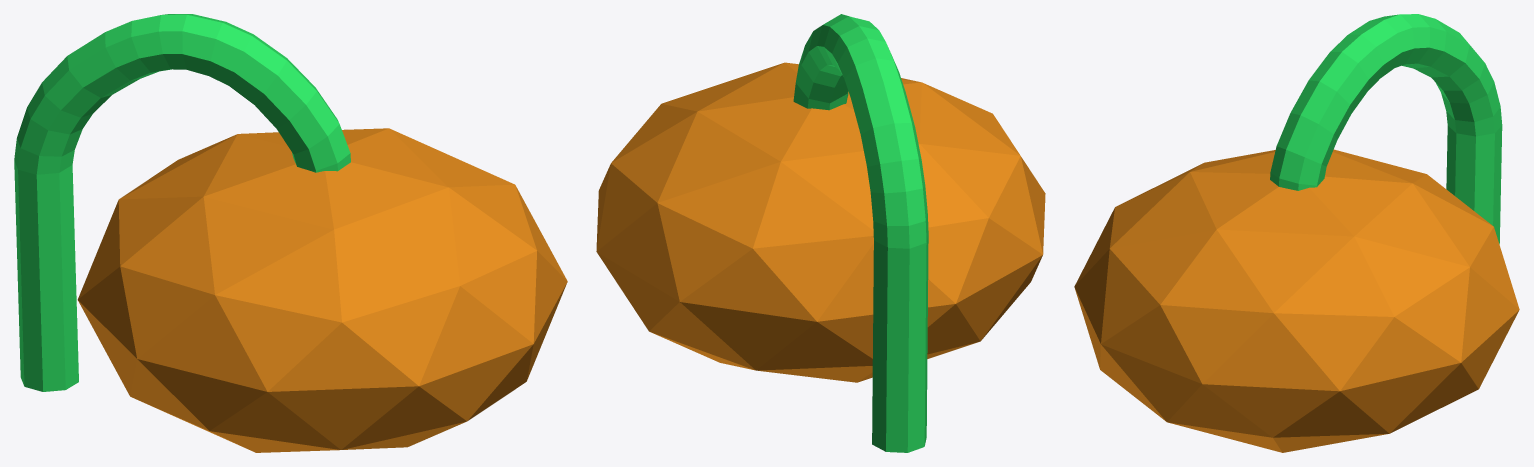
The model's file is pumpkin_stage_2.glb.
The picture shows the model from 3 angles, left to right: view 1: azimuth 30°, elevation 25°; view 2: azimuth 150°, elevation 25°; view 3: azimuth 270°, elevation 25°; orthographic projection. The views are drawn at different scales.
Parts seen in each view (by area): view 1: Icosphere.002, Cylinder.002; view 2: Icosphere.002, Cylinder.002; view 3: Icosphere.002, Cylinder.002.
Part boxes in pixels (box(x1,y1,x2,y2)): Icosphere.002: box(77, 128, 567, 452); Cylinder.002: box(14, 14, 350, 391); Icosphere.002: box(596, 62, 1045, 382); Cylinder.002: box(793, 14, 928, 452); Icosphere.002: box(1074, 149, 1519, 452); Cylinder.002: box(1270, 14, 1502, 244).
Size of the model in its own units: 0.4247 by 0.3863 by 0.4296.
